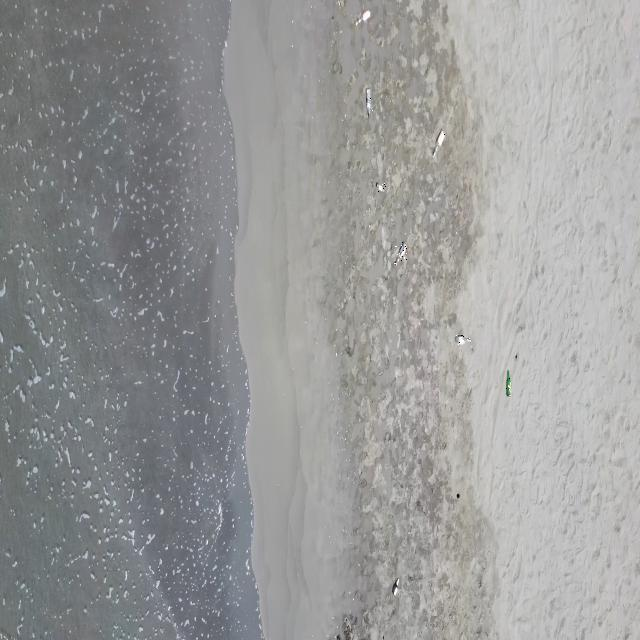glass: (432, 128, 446, 159), (394, 242, 408, 268), (354, 6, 371, 26), (365, 88, 373, 118), (505, 370, 512, 396), (392, 577, 401, 597), (456, 335, 471, 345), (375, 182, 386, 193)
